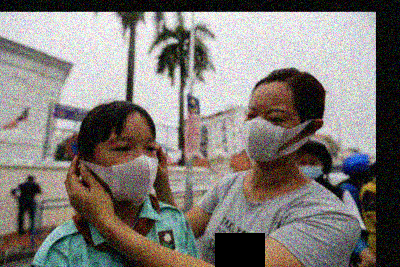with_mask: (94, 133, 159, 203), (240, 101, 299, 164)
